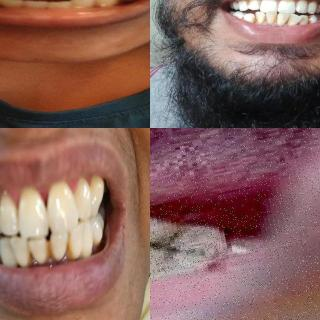cavities: (150, 220, 204, 267)
maligned: (10, 231, 30, 269), (29, 235, 50, 269), (51, 231, 67, 263), (70, 223, 84, 257), (70, 0, 102, 10), (276, 12, 290, 26), (288, 12, 302, 25), (265, 12, 278, 24), (245, 12, 258, 24), (254, 10, 266, 22), (298, 14, 310, 25), (40, 236, 41, 236)
stains: (251, 17, 259, 25), (262, 14, 268, 24), (275, 15, 281, 25), (307, 16, 313, 24), (284, 18, 290, 25), (244, 1, 252, 6), (296, 20, 302, 26), (234, 0, 240, 6), (240, 16, 245, 22), (306, 3, 310, 10), (259, 2, 263, 8)
